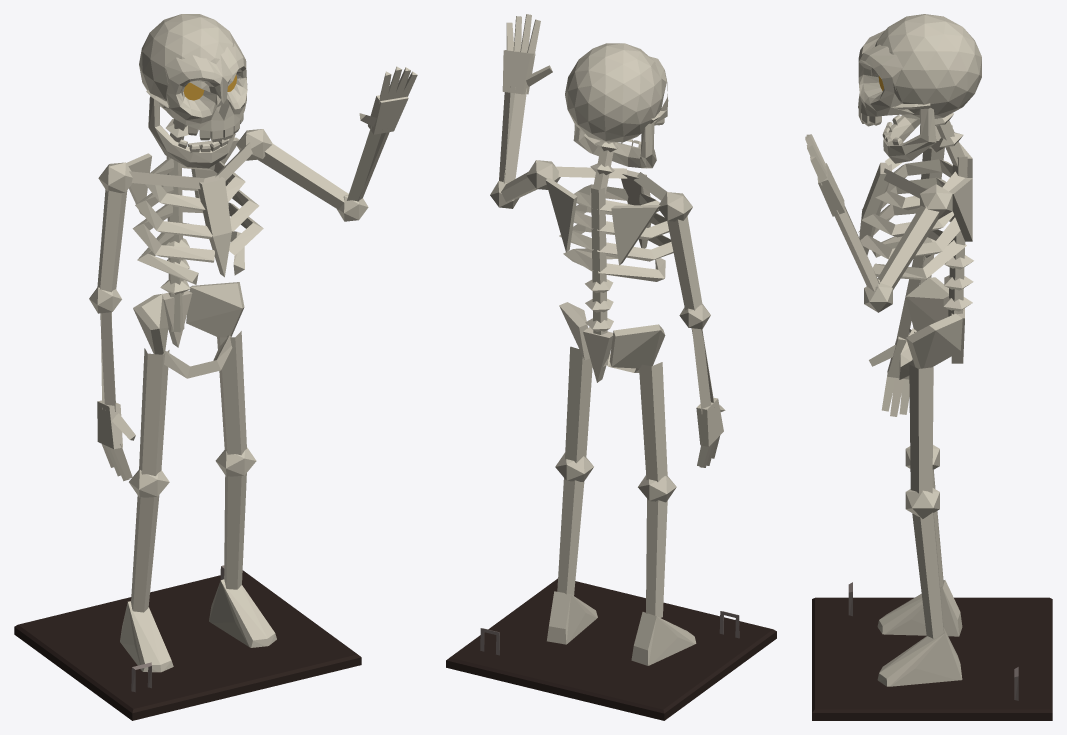
Rendered from giant-yard-skeleton-770f04.glb.
The picture shows the model from 3 angles, left to right: view 1: azimuth 30°, elevation 25°; view 2: azimuth 150°, elevation 25°; view 3: azimuth 270°, elevation 25°; orthographic projection. The views are drawn at different scales.
Visible parts, largest first — view 1: skeleton-statue, jaw-bone; view 2: skeleton-statue, jaw-bone; view 3: skeleton-statue, jaw-bone.
Boxes of the visible parts, box(x1,y1,x2,y2) form: skeleton-statue: box(14, 14, 417, 720); jaw-bone: box(148, 96, 235, 168); skeleton-statue: box(446, 14, 776, 720); jaw-bone: box(573, 121, 656, 168); skeleton-statue: box(805, 14, 1052, 720); jaw-bone: box(882, 108, 936, 163).
Size of the model in its own units: 1.74 by 3.69 by 1.29.
